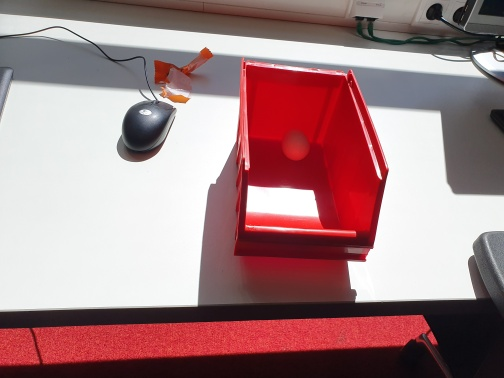egg: (281, 129, 310, 161)
tray_front: (241, 159, 391, 250)
